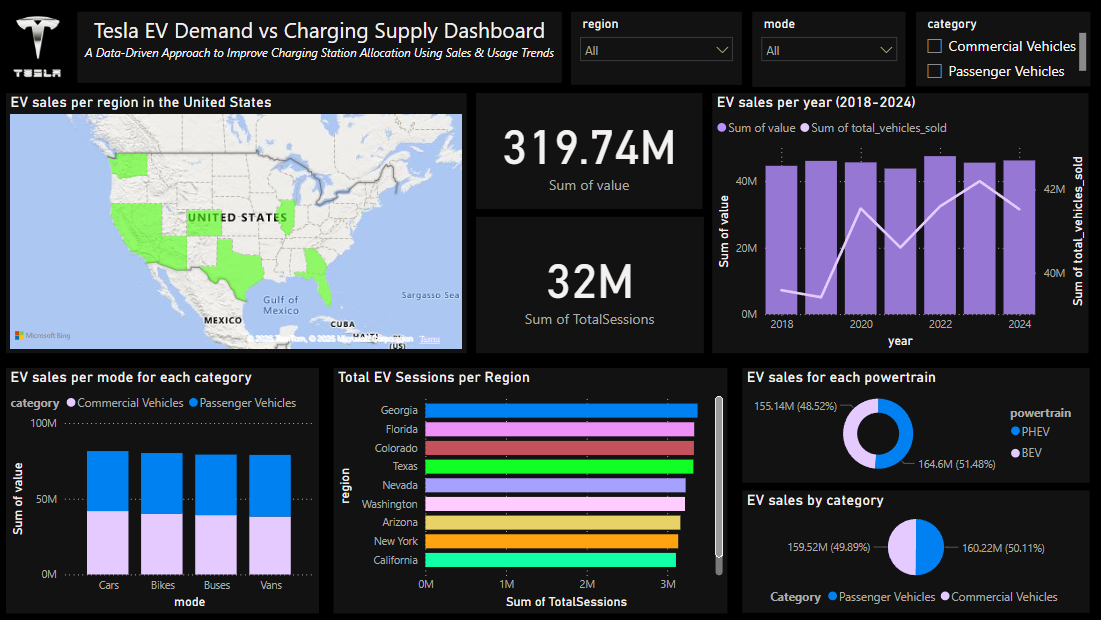

This screenshot's page, from the dashboard's own definition file:
{"tool":"powerbi","page":{"name":"Page 1","canvas":[1280,720],"ordinal":0},"visuals":[{"type":"slicer","fields":{"Values":["clean_regional_factors_1.region"]},"box":[664.8,21.1,194.4,83.1],"z":0},{"type":"slicer","fields":{"Values":["clean_ev_sales.mode"]},"box":[871.8,21.1,174.6,85.9],"z":1000},{"type":"slicer","fields":{"Values":["clean_ev_sales.category"]},"box":[1057.7,21.1,198.6,84.5],"z":2000},{"type":"lineClusteredColumnComboChart","title":"EV sales per year (2018-2024)","fields":{"Category":["clean_ev_sales.year"],"Y":["Sum(clean_ev_sales.value)"],"Y2":["Sum(clean_ev_sales.total_vehicles_sold)"]},"box":[826.8,114.1,428.2,295.8],"z":3000},{"type":"donutChart","title":"EV sales for each powertrain","fields":{"Category":["clean_ev_sales.powertrain"],"Y":["Sum(clean_ev_sales.value)"]},"box":[859.6,426.7,395.6,130.6],"z":4000},{"type":"columnChart","title":"EV sales per mode for each category","fields":{"Category":["clean_ev_sales.mode"],"Y":["Sum(clean_ev_sales.value)"],"Series":["clean_ev_sales.category"]},"box":[22.5,426.8,356.3,278.9],"z":5000},{"type":"barChart","title":"Total EV Sessions per Region","fields":{"Y":["Sum(clean_station_usage.TotalSessions)"],"Category":["clean_regional_factors_1.region"]},"box":[395.8,426.8,447.9,278.9],"z":6000},{"type":"card","fields":{"Values":["Sum(clean_ev_sales.value)"]},"box":[557.7,114.1,257.7,132.4],"z":7000},{"type":"card","fields":{"Values":["Sum(clean_station_usage.TotalSessions)"]},"box":[557.7,254.9,259.2,154.9],"z":8000},{"type":"textbox","box":[103.2,21.1,551.1,80.9],"z":9000},{"type":"filledMap","title":"EV sales per region in the United States","fields":{"Category":["clean_regional_factors_1.region"]},"box":[22.5,114.1,523.9,295.8],"z":10000},{"type":"image","box":[22.5,21.1,70.4,80.3],"z":11000},{"type":"pieChart","title":"EV sales by category","fields":{"Y":["Sum(clean_ev_sales.value)"],"Category":["clean_ev_sales.category"]},"box":[859.6,566,395.6,139.3],"z":11001}]}

Visuals, with their boxes in screenshot pixels (x1, y1, x2, y2), scaled from the page's 1280x720 canvas onto the 1101x620 screenshot:
slicer - clean_regional_factors_1.region: rect(572, 18, 739, 90)
slicer - clean_ev_sales.mode: rect(750, 18, 900, 92)
slicer - clean_ev_sales.category: rect(910, 18, 1081, 91)
"EV sales per year (2018-2024)" lineClusteredColumnComboChart: rect(711, 98, 1079, 353)
"EV sales for each powertrain" donutChart: rect(739, 367, 1080, 480)
"EV sales per mode for each category" columnChart: rect(19, 368, 326, 608)
"Total EV Sessions per Region" barChart: rect(340, 368, 726, 608)
card - Sum(clean_ev_sales.value): rect(480, 98, 701, 212)
card - Sum(clean_station_usage.TotalSessions): rect(480, 219, 703, 353)
textbox: rect(89, 18, 563, 88)
"EV sales per region in the United States" filledMap: rect(19, 98, 470, 353)
image: rect(19, 18, 80, 87)
"EV sales by category" pieChart: rect(739, 487, 1080, 607)
